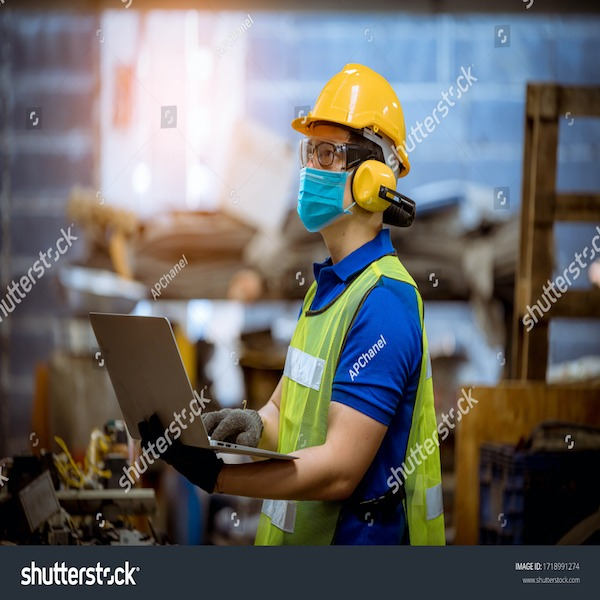helmet: (307, 65, 419, 139)
vest: (278, 274, 451, 542)
